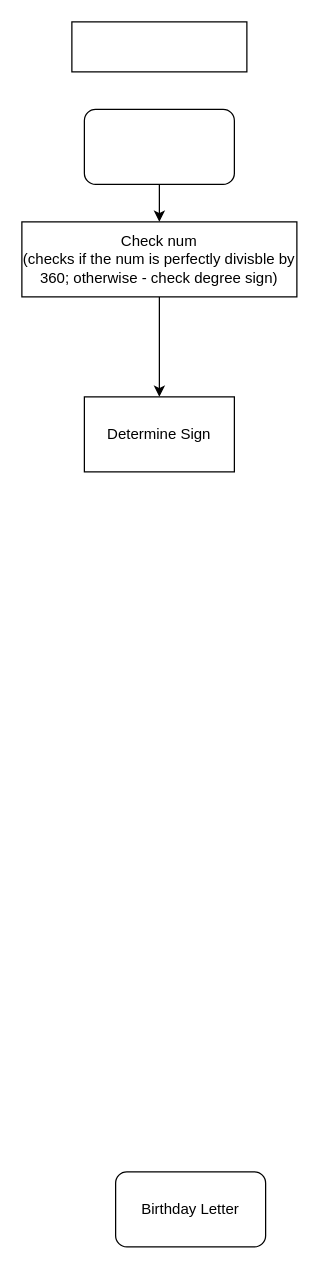
The diagram is 319 pixels wide and 1269 high, and some of its shapes have lost their labels. Each missing label, with the box of its shape:
degree input: (83, 108, 234, 184)
Main: (71, 21, 247, 72)
